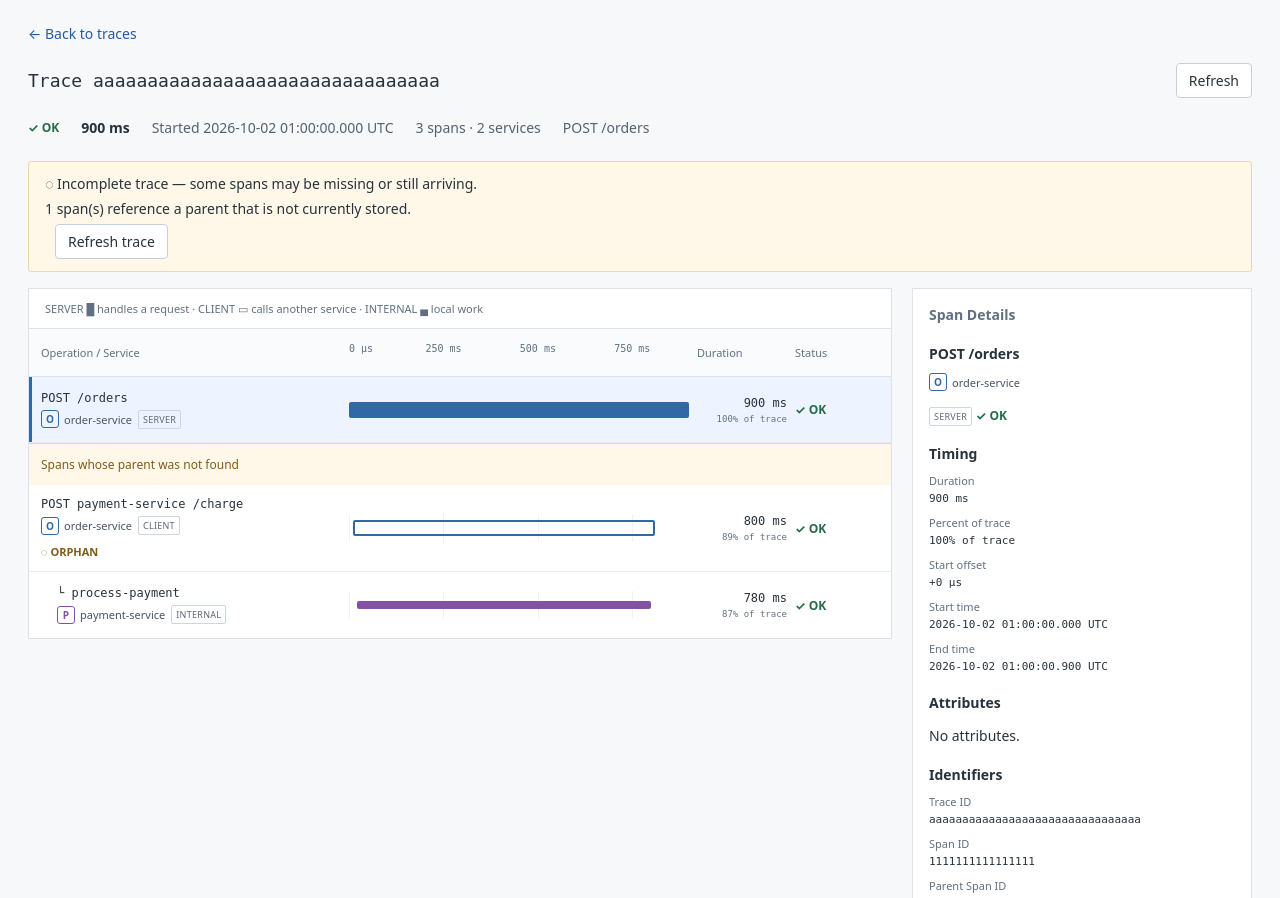
Trace Detail › preserves orphan subtree depth and exposes missing parent
Expected: the text "Incomplete trace —" is shown, [45,174,477,193]
Expected: the text "Spans whose parent was not found" is shown, [29,443,891,485]
Click the button with aria-label "order-service POST payment-service /charge CLIENT OK": (460, 528) [29,485,891,572]
(page scrolled)
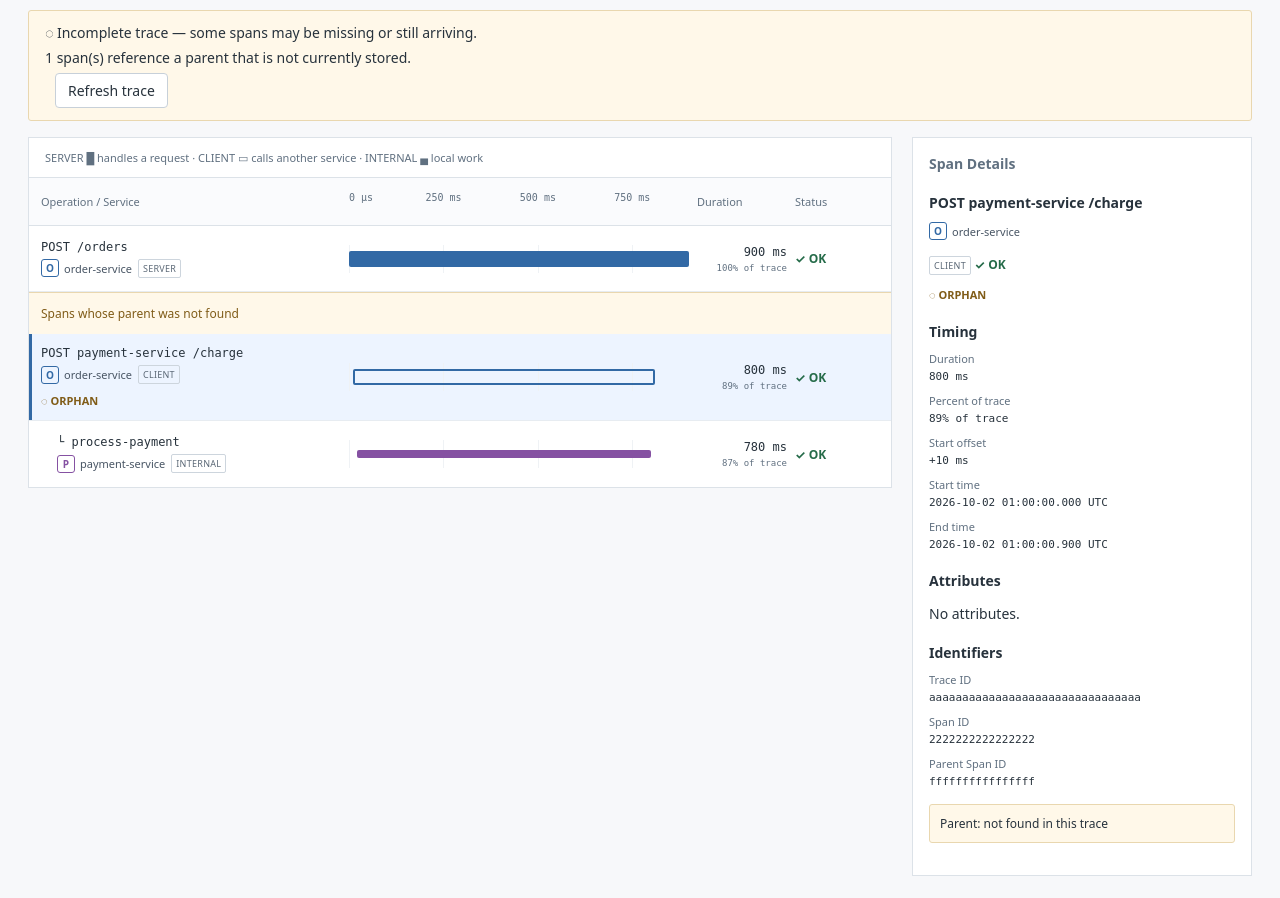
Expected: the text "Parent: not found in this trace" is shown, [929,804,1235,843]
